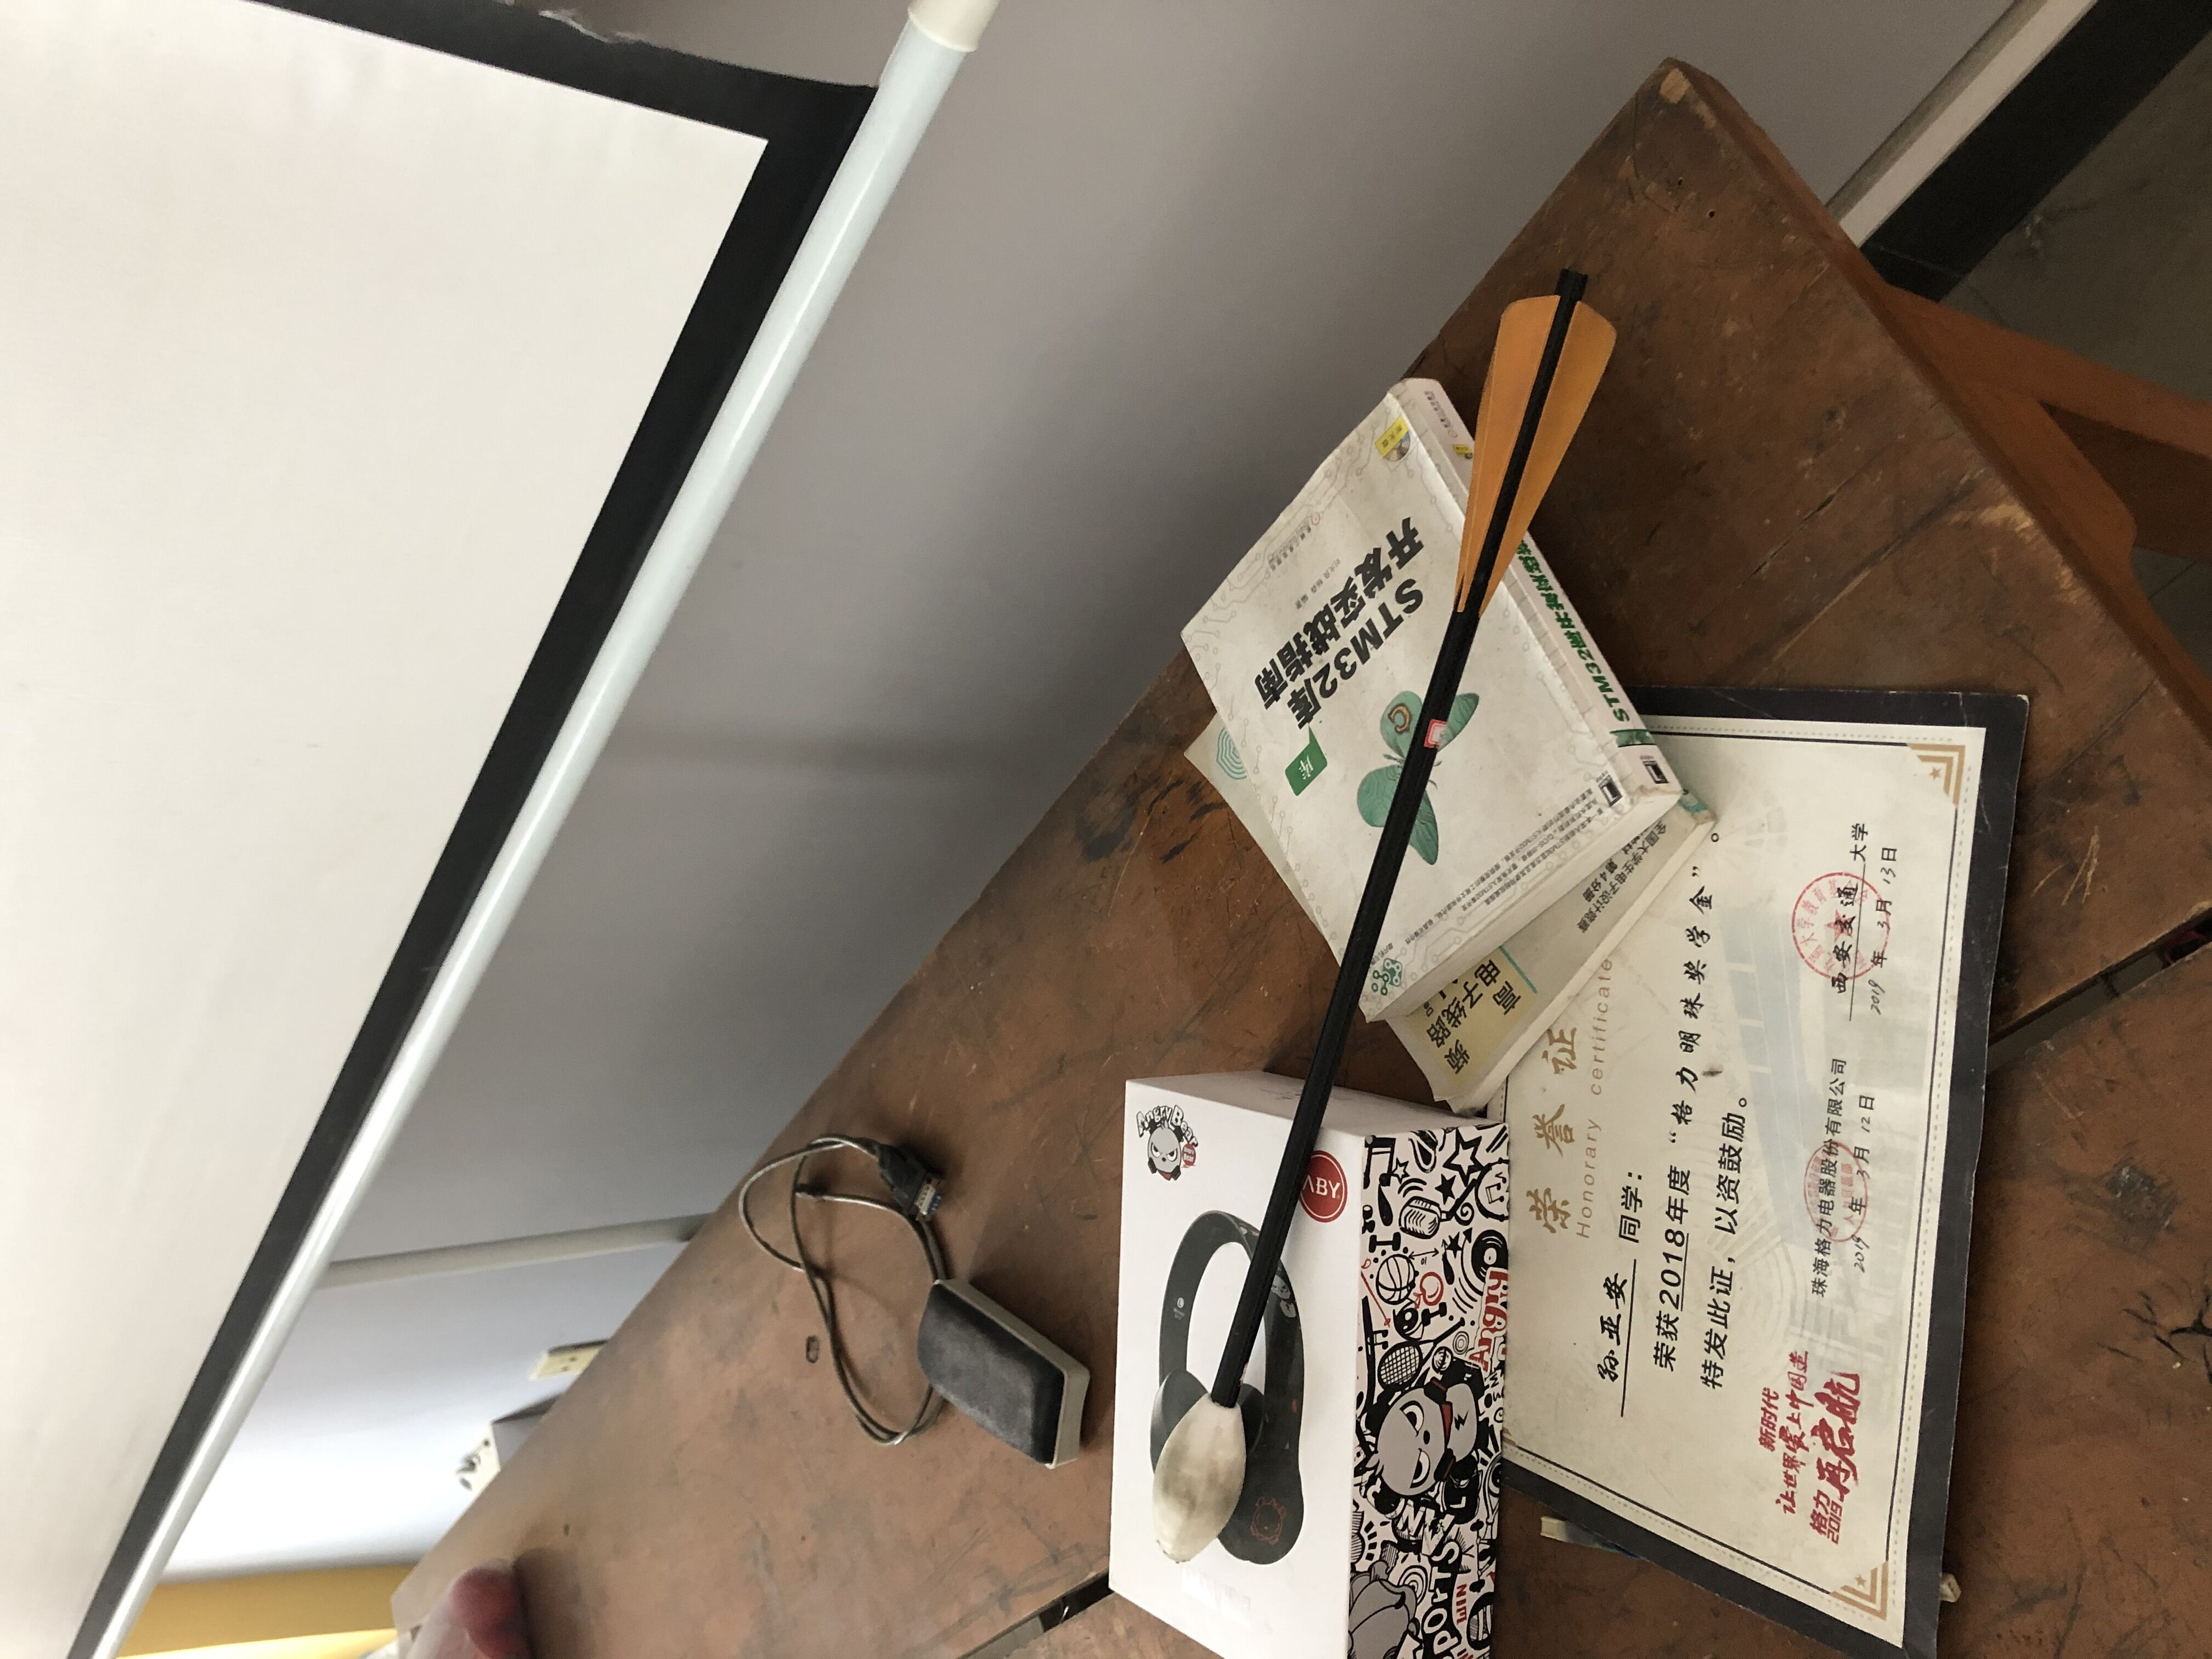arrow: (1153, 274, 1620, 1565)
arrowFront: (1151, 1392, 1251, 1567)
